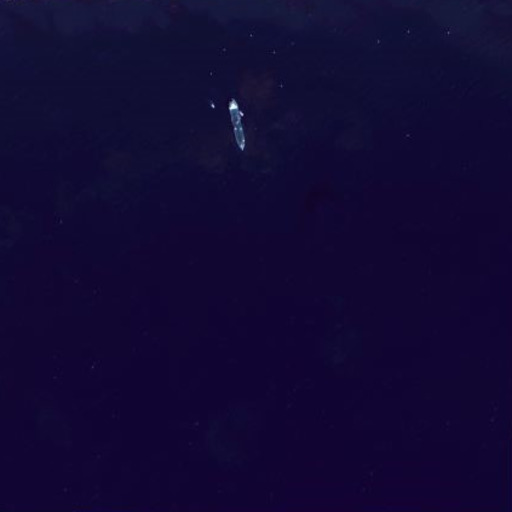ship: (225, 94, 248, 156)
